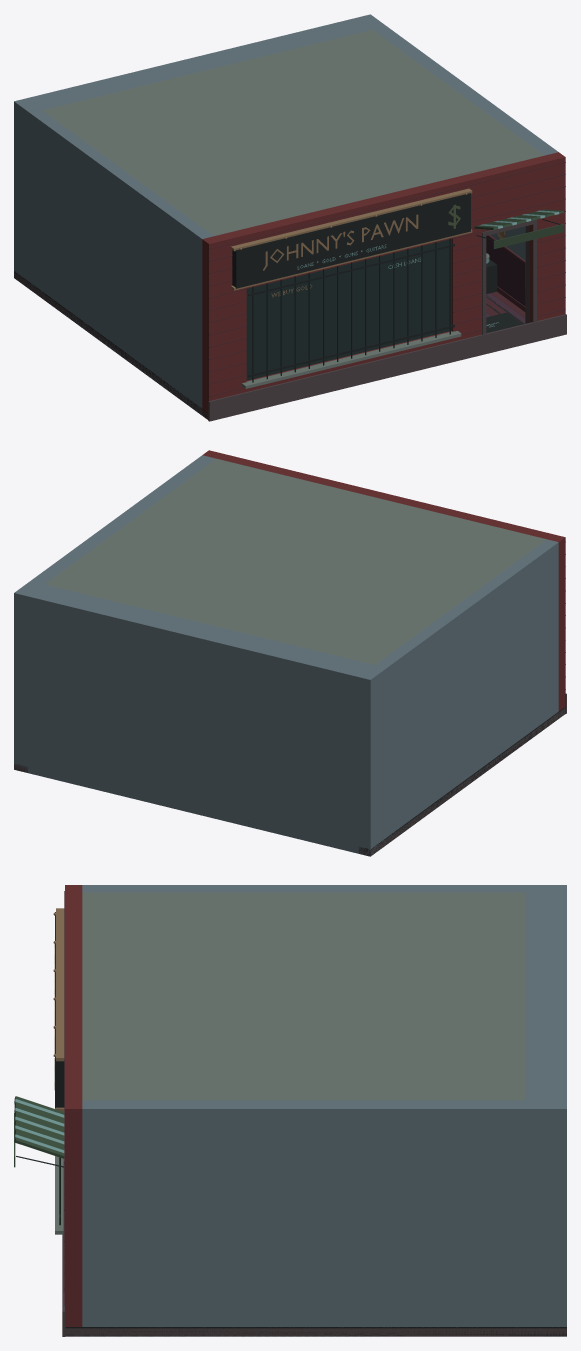
The model's file is amanet.glb.
3 views of the same model, one above another, from view 1: azimuth 30°, elevation 25°; view 2: azimuth 150°, elevation 25°; view 3: azimuth 270°, elevation 25° (orthographic). The views are drawn at different scales.
Parts seen in each view (by area): view 1: Amanet, Geamuri, Coliziune, Lumini; view 2: Amanet, Coliziune; view 3: Amanet, Coliziune.
Boxes of the visible parts, bbox=[...] form: Amanet: bbox=[14, 14, 566, 421]; Geamuri: bbox=[246, 239, 451, 380]; Coliziune: bbox=[14, 259, 524, 418]; Lumini: bbox=[239, 192, 467, 270]; Amanet: bbox=[14, 450, 566, 856]; Coliziune: bbox=[20, 707, 565, 856]; Amanet: bbox=[14, 885, 566, 1336]; Coliziune: bbox=[65, 1327, 566, 1336].
Bounding box in the file's own units: 7.62 × 3.6 × 7.93.
